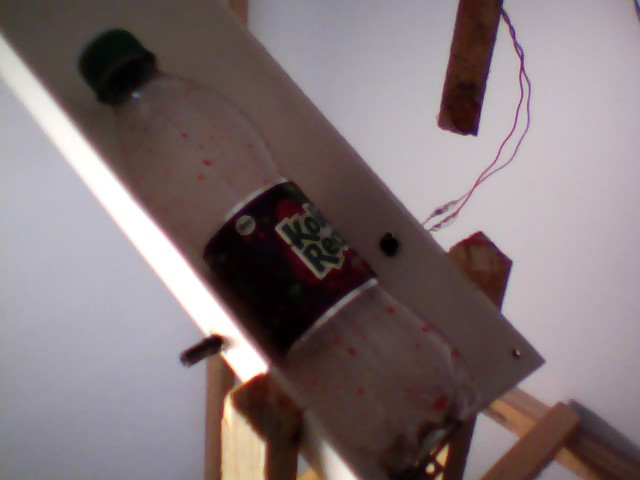plastico: (69, 19, 491, 469)
